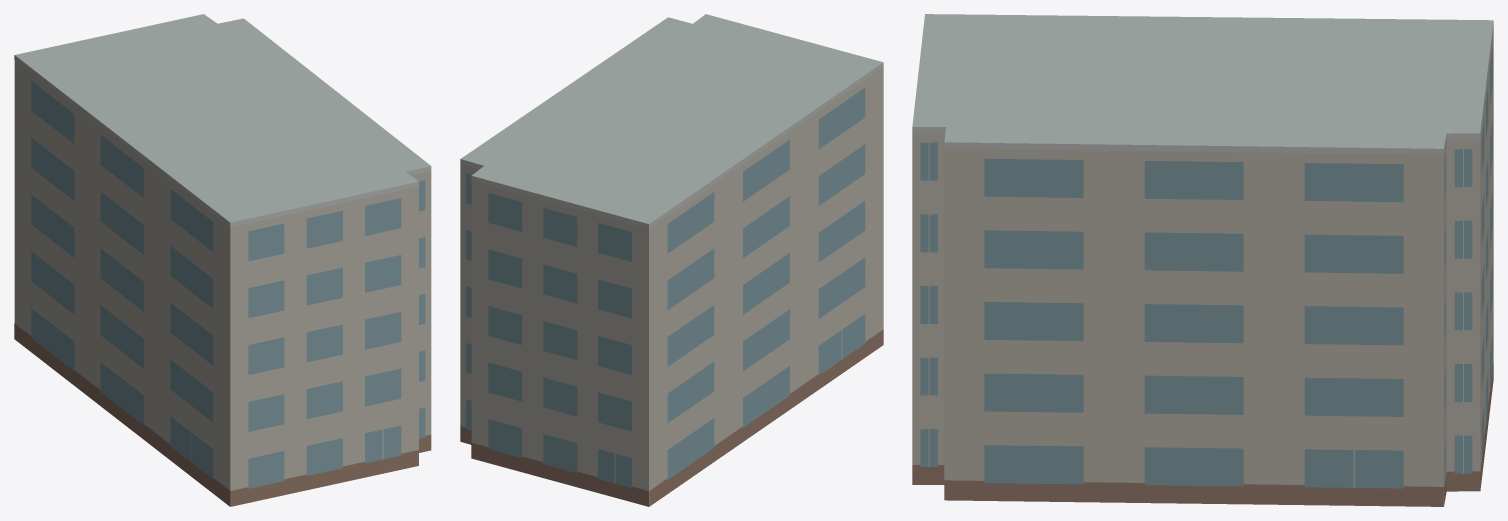
The model's file is survey-upis-32662666.glb.
The picture shows the model from 3 angles, left to right: view 1: azimuth 30°, elevation 25°; view 2: azimuth 150°, elevation 25°; view 3: azimuth 270°, elevation 25°; orthographic projection. The views are drawn at different scales.
Parts seen in each view (by area): view 1: survey-upis-32662666.tmp; view 2: survey-upis-32662666.tmp; view 3: survey-upis-32662666.tmp.
Boxes of the visible parts, bbox=[...] form: survey-upis-32662666.tmp: bbox=[14, 14, 431, 506]; survey-upis-32662666.tmp: bbox=[460, 14, 883, 506]; survey-upis-32662666.tmp: bbox=[912, 14, 1493, 506].
Size of the model in its own units: 11.64 by 14.4 by 21.2.
